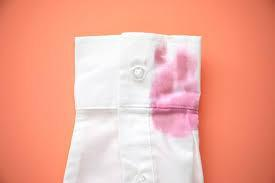oil: (148, 43, 197, 139)
